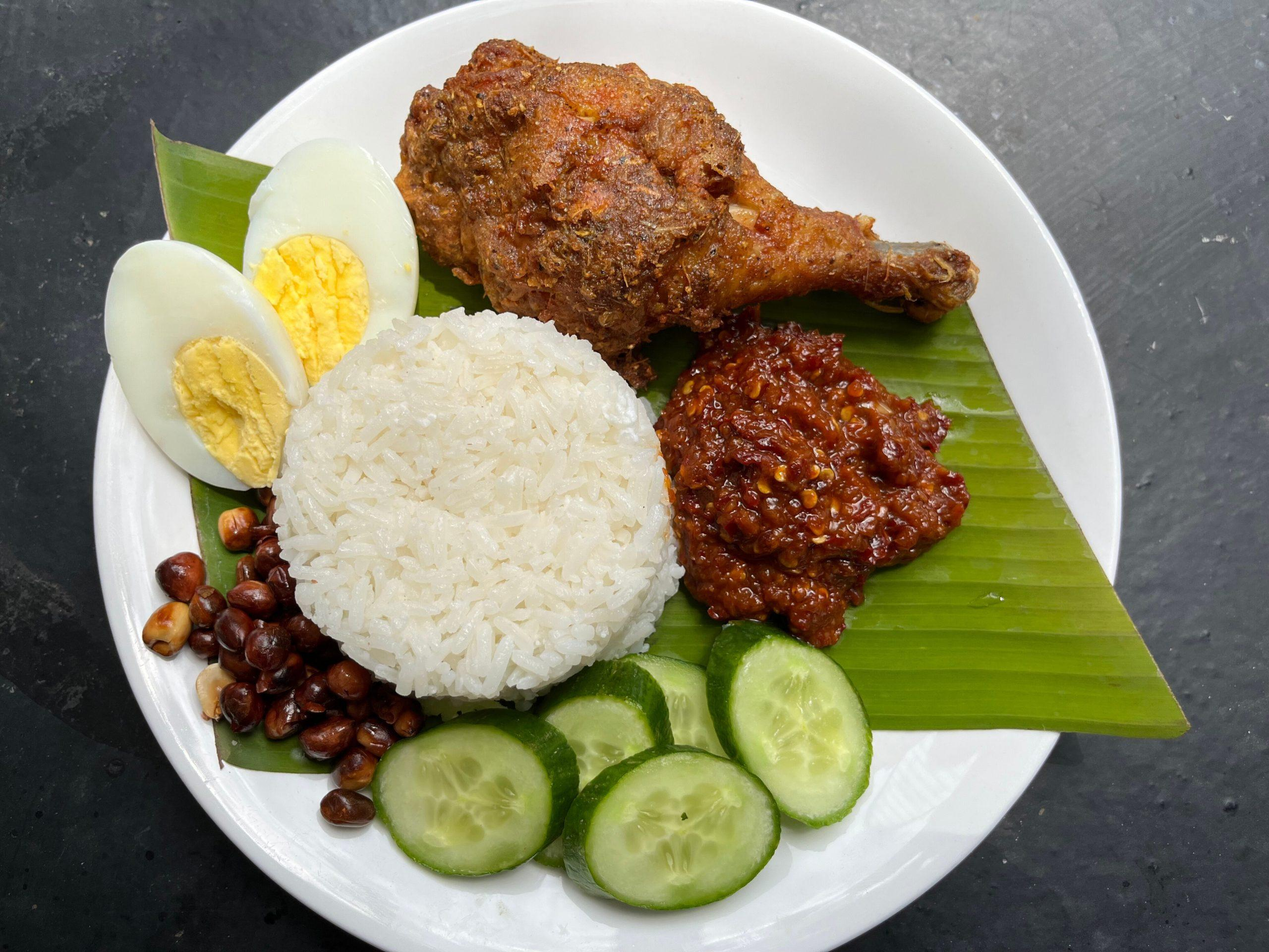Boiled-Egg: (98, 143, 418, 491)
Cucumber: (381, 609, 871, 911)
Fried-Chicken: (396, 42, 978, 378)
Peanuts: (149, 501, 432, 832)
Rice: (281, 313, 681, 705)
Sambal: (656, 326, 969, 632)
